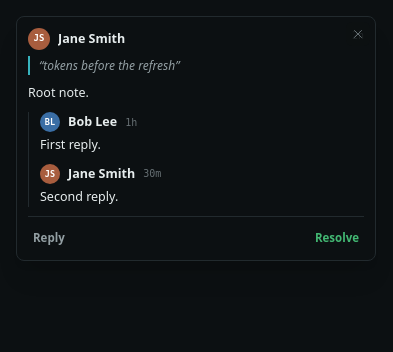
Scenario: pinned card is an independent optimistic view (S-002 / C-007) › C-007: a reply sent inside the pinned card shows flat in THAT card without mutating shared data
Click the button with test id "reply-open" at (49, 237), box [28, 226, 70, 249]
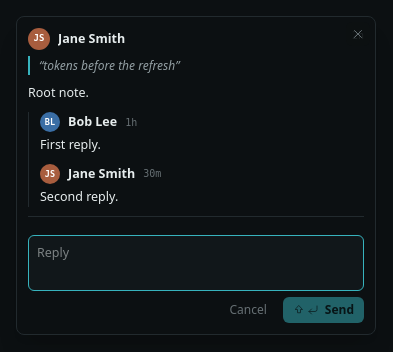
Type "pinned-card reply" into the text box with test id "reply-input" at (196, 263), box [28, 235, 364, 291]
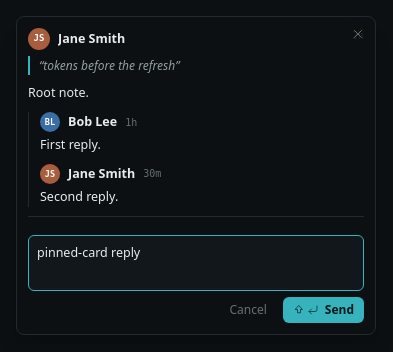
Click the button with test id "reply-send" at (323, 310), box [283, 297, 364, 323]
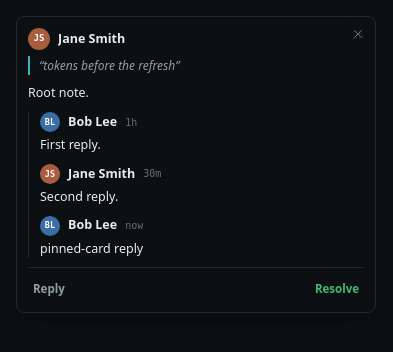
Now the number of elements with test id "reply" is 3, box [40, 112, 137, 153]; [40, 164, 161, 205]; [40, 216, 143, 257]
